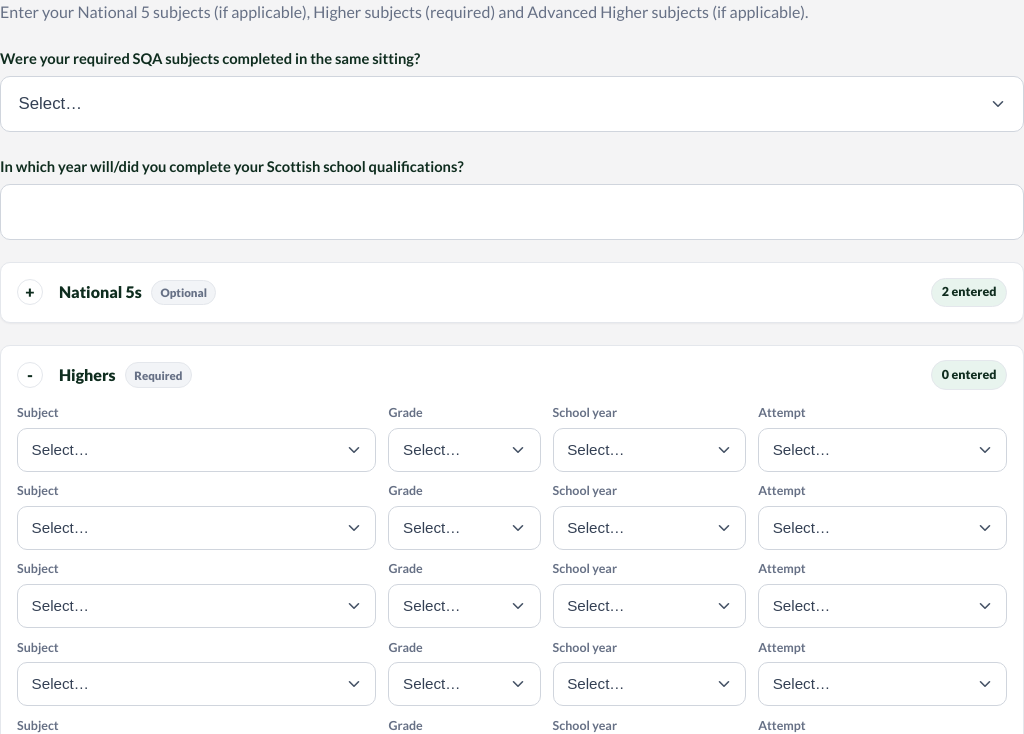
ScottishStep › shows entered counts and keeps five Higher subject and grade rows by default
Expected: the text labelled "2 entered" is shown, [931,278,1007,307]
Click the heading "National 5s Optional 2 entered" at (100, 292), box [59,278,1007,307]
(page scrolled)
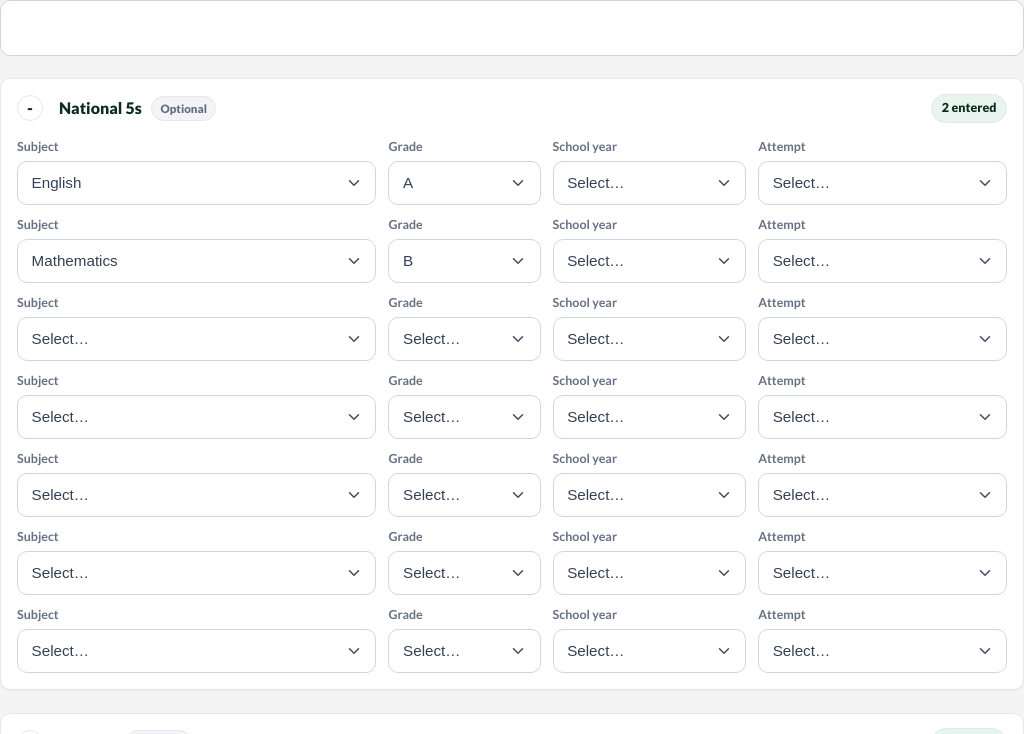
Result: the number of dropdowns labelled "Subject" is 7
Result: the number of dropdowns labelled "Grade" is 7
